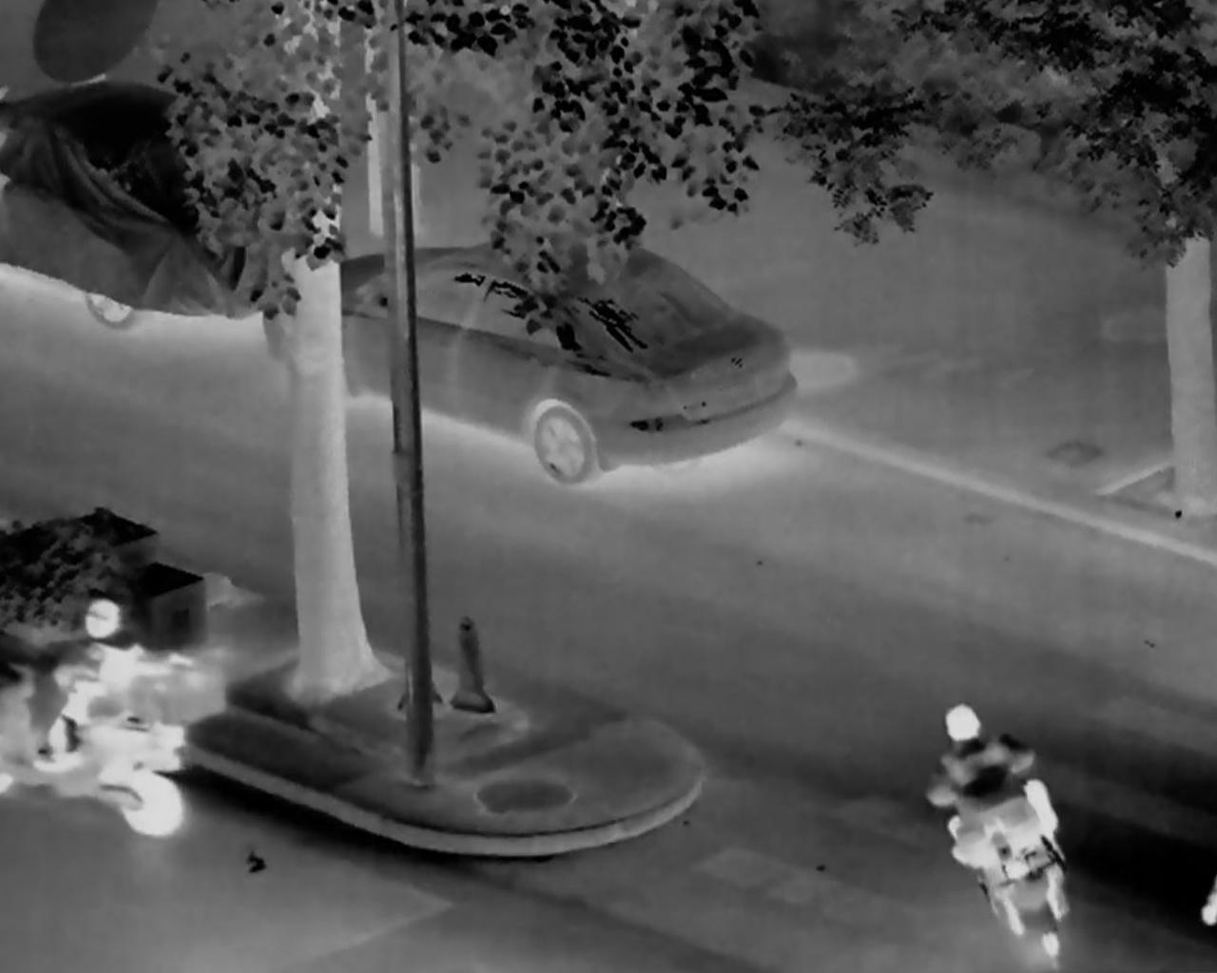person: (929, 704, 1044, 885), (29, 600, 145, 773)
